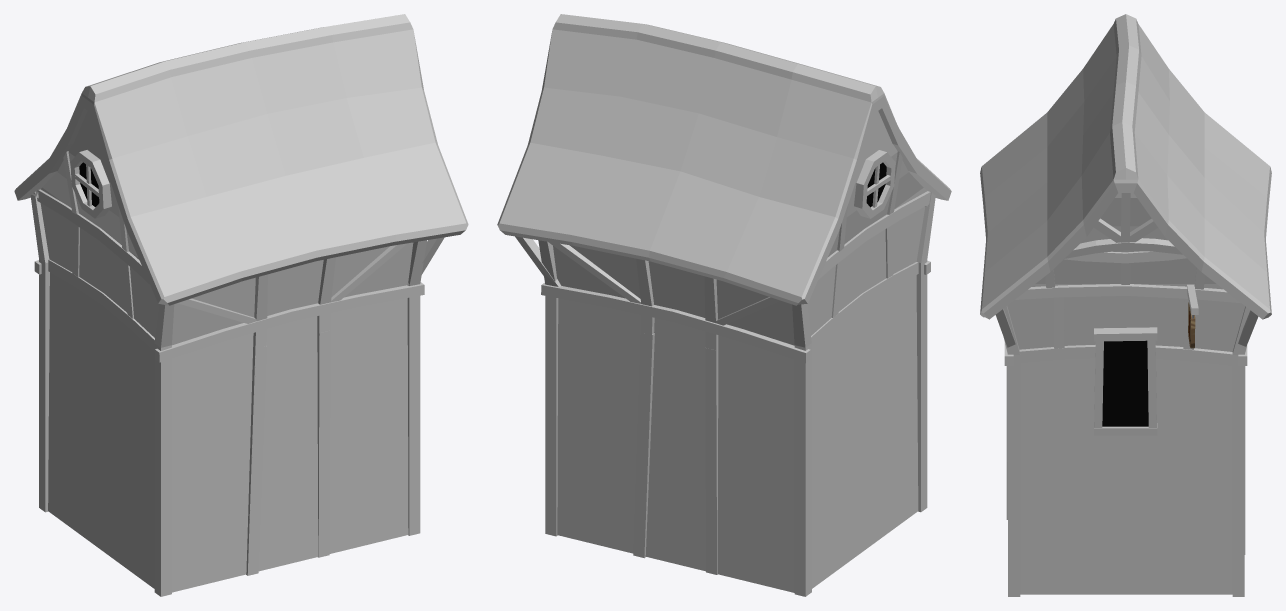
File: Cobbler2.fbx
The picture shows the model from 3 angles, left to right: view 1: azimuth 30°, elevation 25°; view 2: azimuth 150°, elevation 25°; view 3: azimuth 270°, elevation 25°; orthographic projection. The views are drawn at different scales.
Parts seen in each view (by area): view 1: Base.001, Roof.001, Step_0, Step_1, Timber.006, Timber.007, Timber.023, Step_2, Step_5, Timber.029, Window.001, Timber.028 (+5 smaller); view 2: Base.001, Roof.001, Step_1, Step_0, Timber.024, Timber.009, Step_3, Timber.006, Window.001, Step_5, Timber.029, Step_2 (+2 smaller); view 3: Base.001, Roof.001, Door.001, Timber.008, Timber.009, Timber.018, Timber.025, Step_5, Timber.003, Timber.019, Step_2, Step_0 (+3 smaller).
Part boxes in pixels (x1=…): Base.001: x1=40, y1=111, x2=413, y2=592; Roof.001: x1=14, y1=14, x2=468, y2=305; Step_0: x1=45, y1=286, x2=420, y2=575; Step_1: x1=154, y1=241, x2=420, y2=596; Timber.006: x1=30, y1=191, x2=49, y2=511; Timber.007: x1=161, y1=304, x2=174, y2=596; Timber.023: x1=155, y1=282, x2=424, y2=362; Step_2: x1=34, y1=259, x2=357, y2=362; Step_5: x1=63, y1=151, x2=128, y2=251; Timber.029: x1=37, y1=190, x2=149, y2=284; Window.001: x1=71, y1=150, x2=108, y2=218; Timber.028: x1=48, y1=262, x2=154, y2=351; Base.001: x1=553, y1=111, x2=926, y2=592; Roof.001: x1=497, y1=14, x2=951, y2=305; Step_1: x1=633, y1=192, x2=935, y2=596; Step_0: x1=545, y1=310, x2=811, y2=574; Timber.024: x1=541, y1=285, x2=810, y2=362; Timber.009: x1=538, y1=240, x2=558, y2=536; Step_3: x1=551, y1=229, x2=890, y2=325; Timber.006: x1=801, y1=304, x2=811, y2=596; Window.001: x1=854, y1=150, x2=893, y2=218; Step_5: x1=515, y1=151, x2=895, y2=286; Timber.029: x1=818, y1=191, x2=930, y2=279; Step_2: x1=542, y1=262, x2=930, y2=362; Base.001: x1=1007, y1=193, x2=1245, y2=594; Roof.001: x1=980, y1=14, x2=1271, y2=319; Door.001: x1=1094, y1=327, x2=1157, y2=435; Timber.008: x1=1003, y1=306, x2=1020, y2=596; Timber.009: x1=1232, y1=306, x2=1250, y2=596; Timber.018: x1=1015, y1=284, x2=1240, y2=303; Timber.025: x1=1019, y1=345, x2=1232, y2=365; Step_5: x1=1002, y1=193, x2=1255, y2=348; Timber.003: x1=1065, y1=238, x2=1181, y2=258; Timber.019: x1=1064, y1=251, x2=1186, y2=263; Step_2: x1=1004, y1=300, x2=1247, y2=365; Step_0: x1=1006, y1=366, x2=1243, y2=596.
Bounding box in the file's own units: 596 × 1040 × 751.
